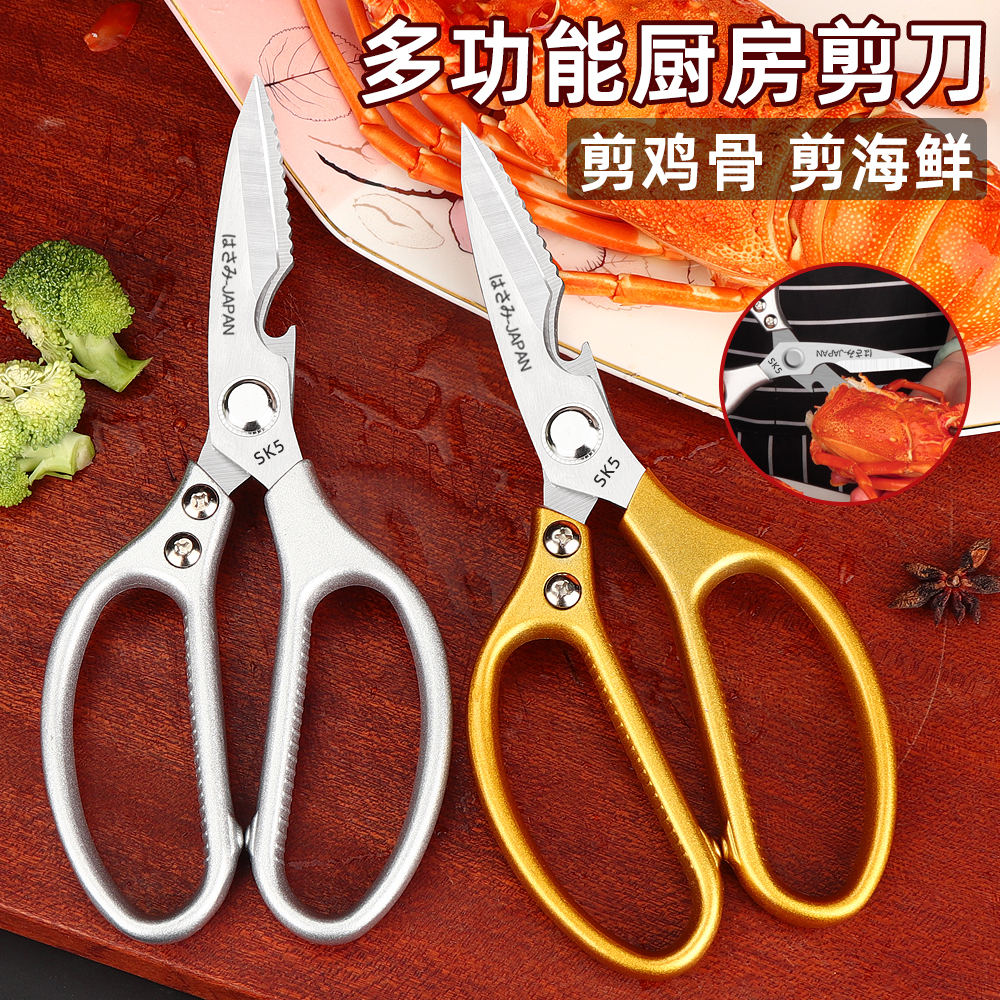scissors: (433, 115, 903, 983), (36, 67, 458, 954)
